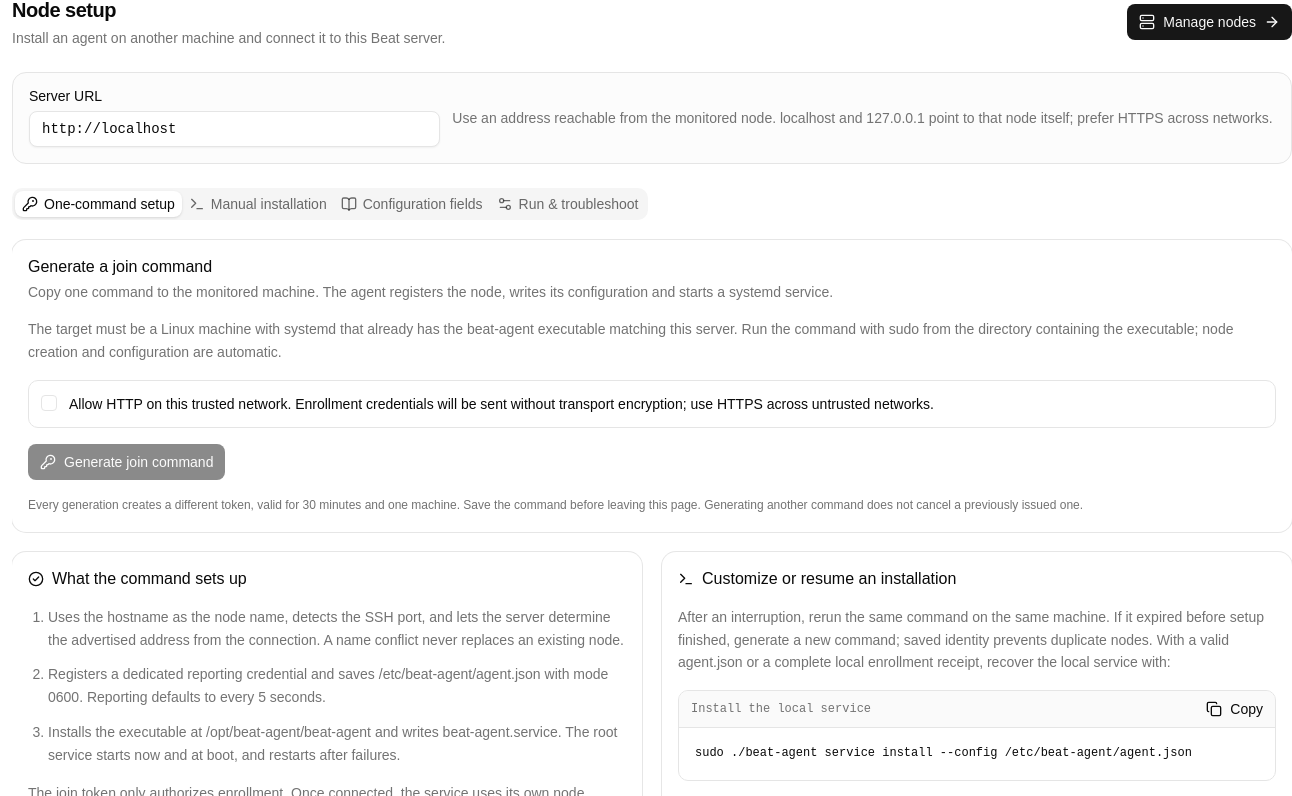
Scenario: agent setup guide › documents every optional config section and its fields
What coordinates should you click on to do the following:
click the tab "Manual installation"
I would click on:
 (258, 204)
Its box is left=182, top=191, right=334, bottom=217.
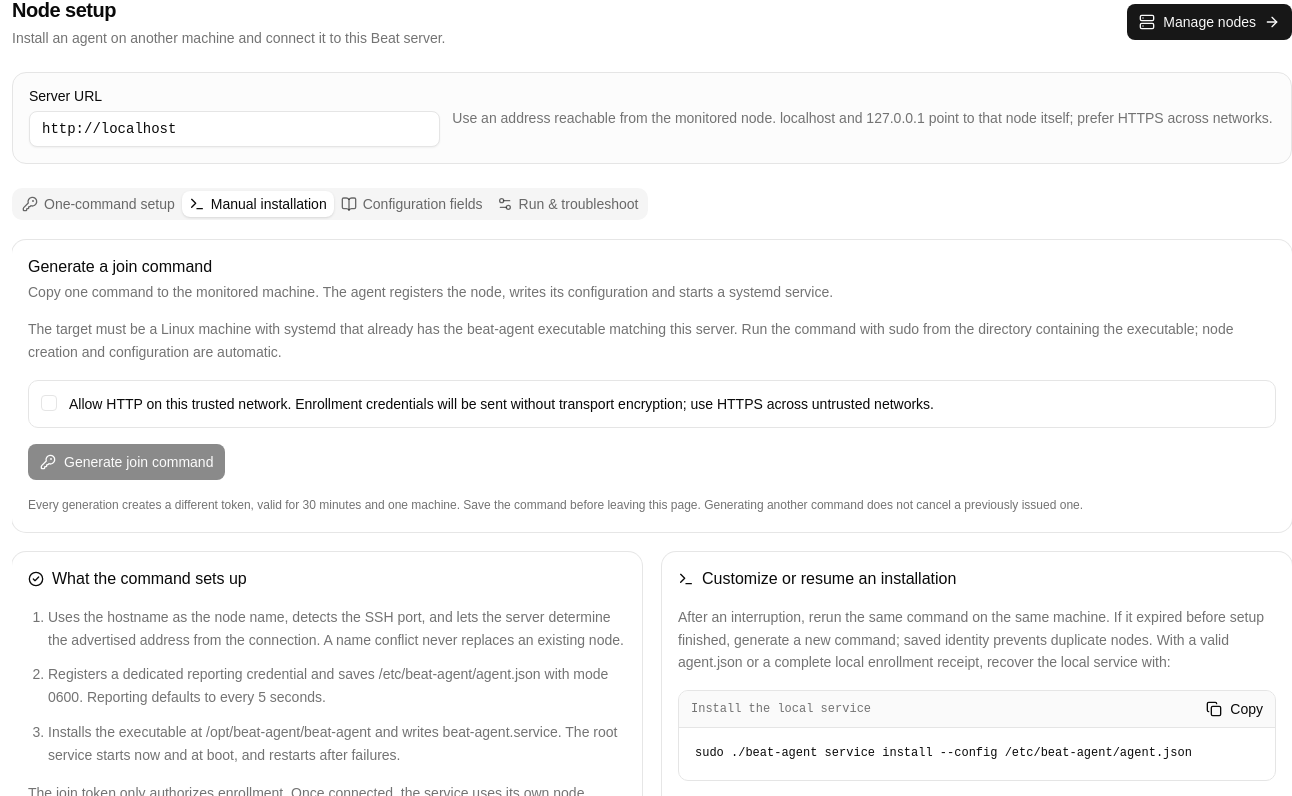
What coordinates should you click on to do the following:
click the tab "Configuration fields"
I would click on:
 (412, 204)
Its box is left=334, top=191, right=490, bottom=217.
(page scrolled)
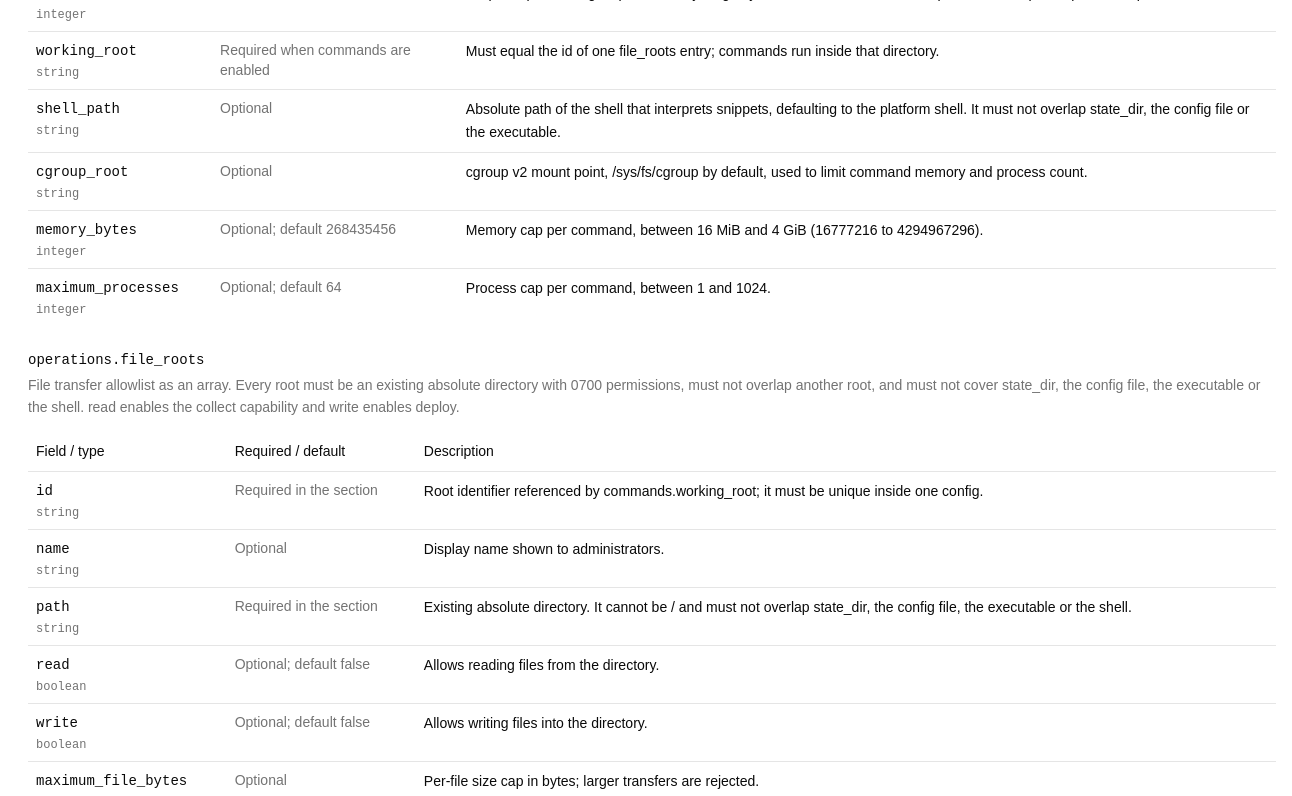
Check: the heading "operations.file_roots" is shown, box left=28, top=352, right=204, bottom=368
Check: the text "working_root" is shown, box left=36, top=43, right=137, bottom=59
Check: the text "maximum_processes" is shown, box left=36, top=280, right=179, bottom=296
